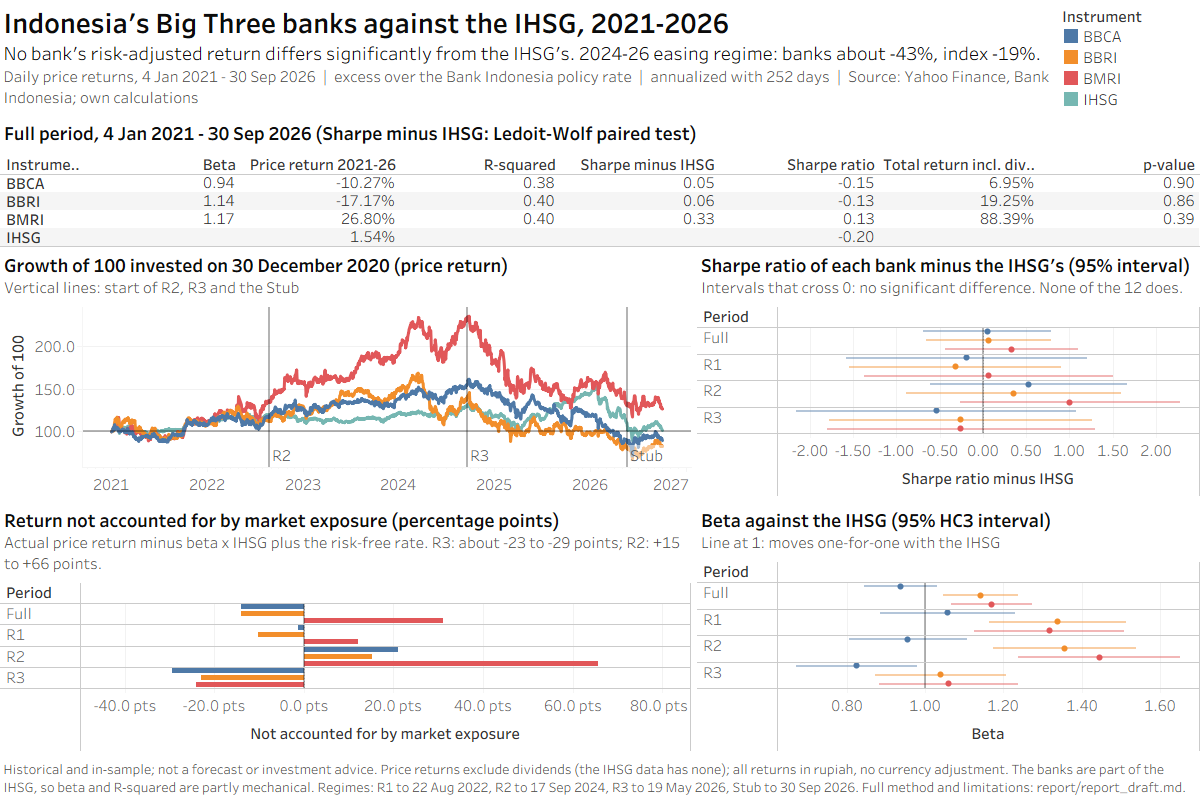

The dashboard page shown, as its layout file describes it:
{"tool":"tableau","page":{"name":"Overview","canvas":[1200,800],"ordinal":1},"visuals":[{"type":"text","box":[0,0,1054.5,112]},{"type":"legend","title":"S2 Growth of 100","param":"[federated.daily].[none:ticker:nk]","box":[1060.6,4,139.4,109.6]},{"type":"worksheet","title":"S1 Headline tiles","mark":"Text","rows":["ticker"],"box":[0,113.6,1200,132.9]},{"type":"worksheet","title":"S2 Growth of 100","mark":"Line","rows":["growth_index"],"cols":["trade_date"],"box":[0,246.5,690.9,250.5]},{"type":"worksheet","title":"S3 Sharpe minus IHSG","mark":"Automatic","rows":["period","ticker"],"cols":["ci_low","delta"],"box":[697,246.5,503,250.5]},{"type":"worksheet","title":"S4 Market-implied gap","mark":"Bar","rows":["period","ticker"],"cols":["gap_pct_points"],"box":[0,501,690.9,250.5]},{"type":"worksheet","title":"S5 Beta","mark":"Automatic","rows":["period","ticker"],"cols":["beta_ci_low","beta"],"box":[697,501,503,250.5]},{"type":"text","box":[0,755.6,1200,44.4]}]}

Visuals, with their boxes in screenshot pixels (x1, y1, x2, y2), scaled from the page's 1200x800 canvas onto the 1200x800 screenshot:
text: [left=0, top=0, right=1054, bottom=112]
"S2 Growth of 100" legend: [left=1061, top=4, right=1199, bottom=114]
"S1 Headline tiles" worksheet (Text marks): [left=0, top=114, right=1199, bottom=246]
"S2 Growth of 100" worksheet (Line marks): [left=0, top=246, right=691, bottom=497]
"S3 Sharpe minus IHSG" worksheet: [left=697, top=246, right=1199, bottom=497]
"S4 Market-implied gap" worksheet (Bar marks): [left=0, top=501, right=691, bottom=752]
"S5 Beta" worksheet: [left=697, top=501, right=1199, bottom=752]
text: [left=0, top=756, right=1199, bottom=799]
